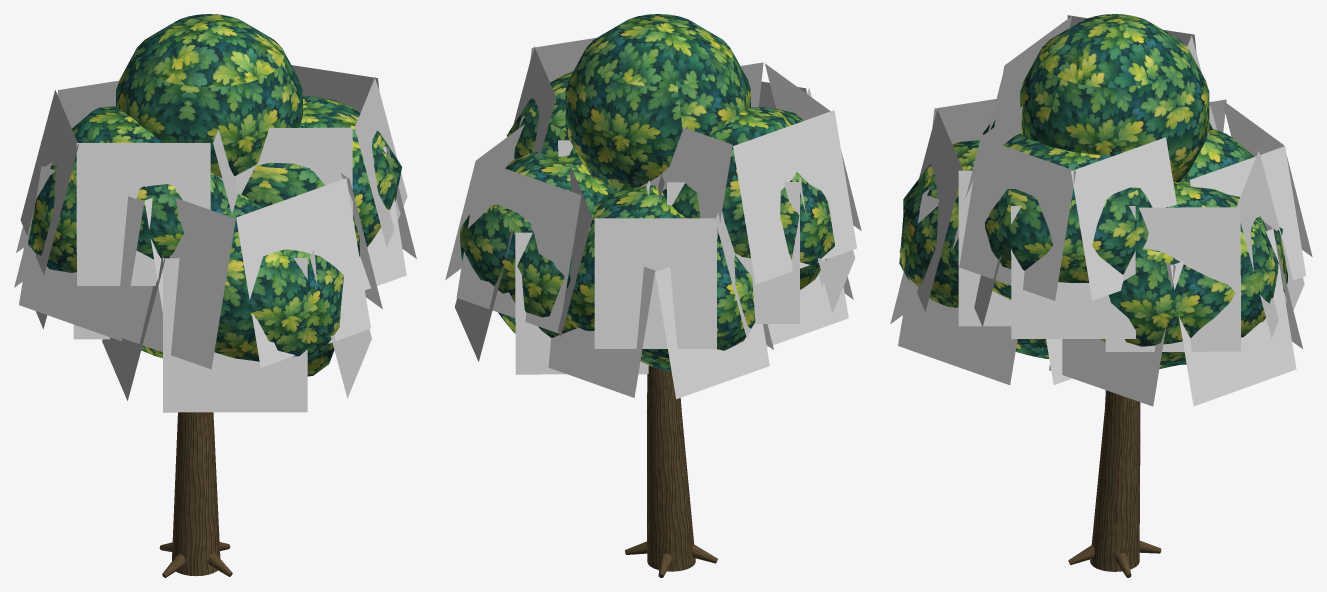
The model's file is NaturalTree_08.fbx.
3 views of the same model, side by side, from view 1: azimuth 30°, elevation 25°; view 2: azimuth 150°, elevation 25°; view 3: azimuth 270°, elevation 25° (orthographic).
Parts seen in each view (by area): view 1: NaturalTree_08.001; view 2: NaturalTree_08.001; view 3: NaturalTree_08.001.
Part boxes in pixels (<box>): NaturalTree_08.001: <box>14,14,416,577</box>; NaturalTree_08.001: <box>445,14,861,577</box>; NaturalTree_08.001: <box>890,14,1312,577</box>.
Size of the model in its own units: 397 by 583 by 409.
Materials: 3 (2 with a texture image).
